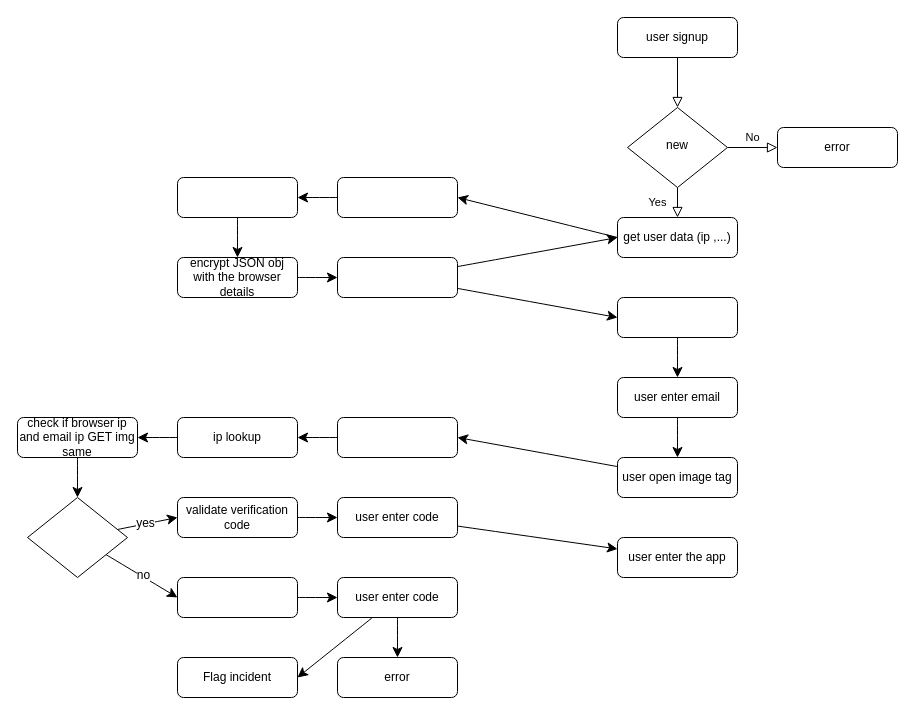
The diagram is 915 pixels wide and 715 high, and some of its shapes have lost their labels. The shapes that lost their labels are listed below. From the top down, each one's centre as x and y in pixels, then its label:
At pixel 237 197: "save 2FA attempt in db".
At pixel 397 197: "save user in the db status pending".
At pixel 397 277: "saves device token in the local storage".
At pixel 677 317: "send email".
At pixel 397 437: "GET /api/img".
At pixel 77 537: "if same".
At pixel 237 597: "invalidate verification code".
